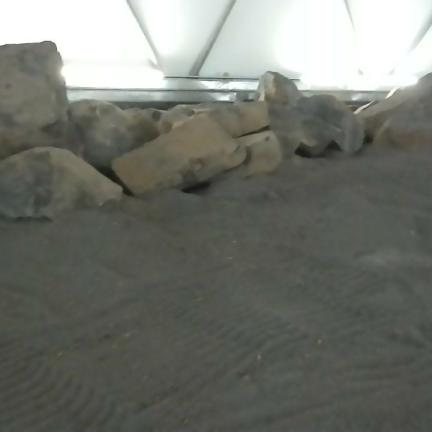Rock: (112, 114, 245, 194), (0, 41, 77, 159), (0, 147, 122, 218), (69, 100, 171, 170), (269, 95, 364, 157), (360, 74, 431, 148), (169, 102, 268, 137), (227, 131, 282, 178), (255, 71, 301, 104)
